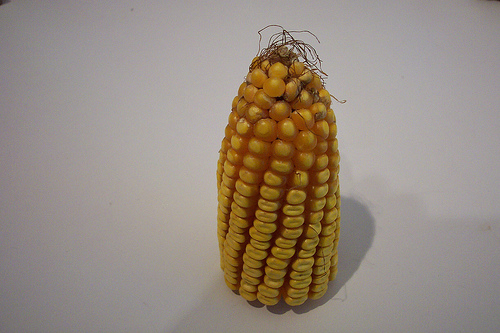corn: (216, 24, 344, 307)
